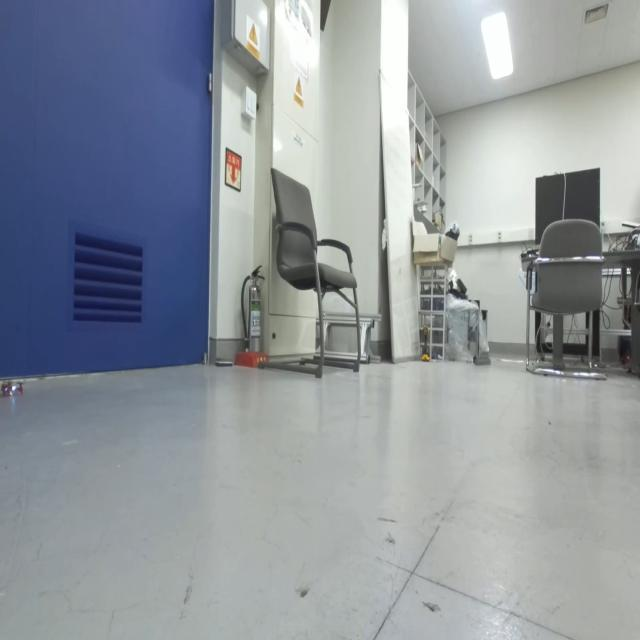crazyflie: (0, 378, 28, 400)
